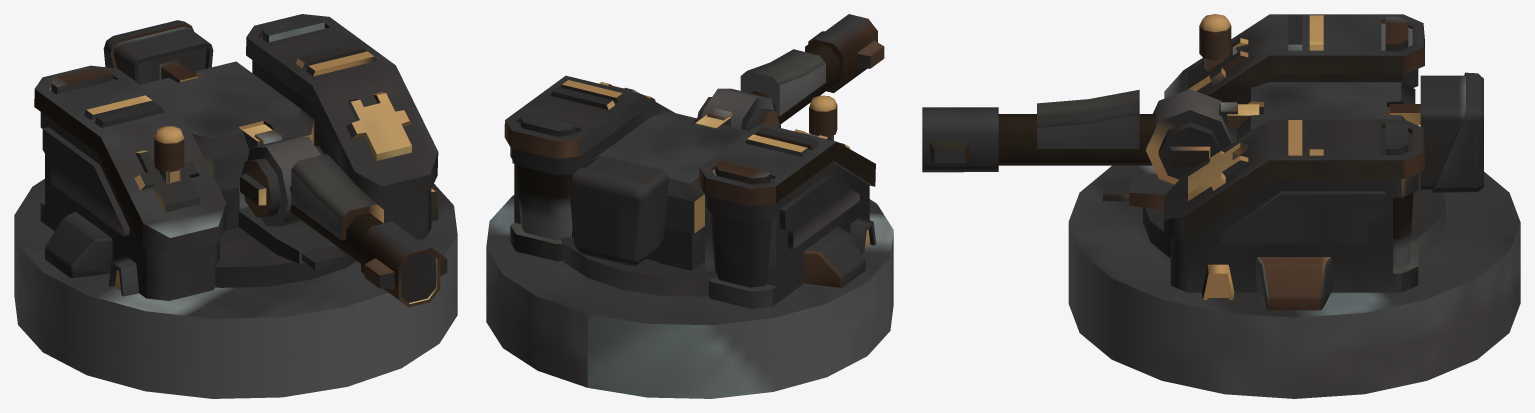
Rendered from Turret.fbx.
The picture shows the model from 3 angles, left to right: view 1: azimuth 30°, elevation 25°; view 2: azimuth 150°, elevation 25°; view 3: azimuth 270°, elevation 25°; orthographic projection. The views are drawn at different scales.
Parts seen in each view (by area): view 1: SWBody, SWHead; view 2: SWBody, SWHead; view 3: SWBody, SWHead.
Boxes of the visible parts, <box> form: SWBody: <box>14,14,457,398</box>; SWHead: <box>240,136,447,307</box>; SWBody: <box>486,75,893,398</box>; SWHead: <box>697,14,884,131</box>; SWBody: <box>1068,14,1520,398</box>; SWHead: <box>922,89,1233,184</box>.
Bounding box in the file's own units: 326 × 187 × 432.
